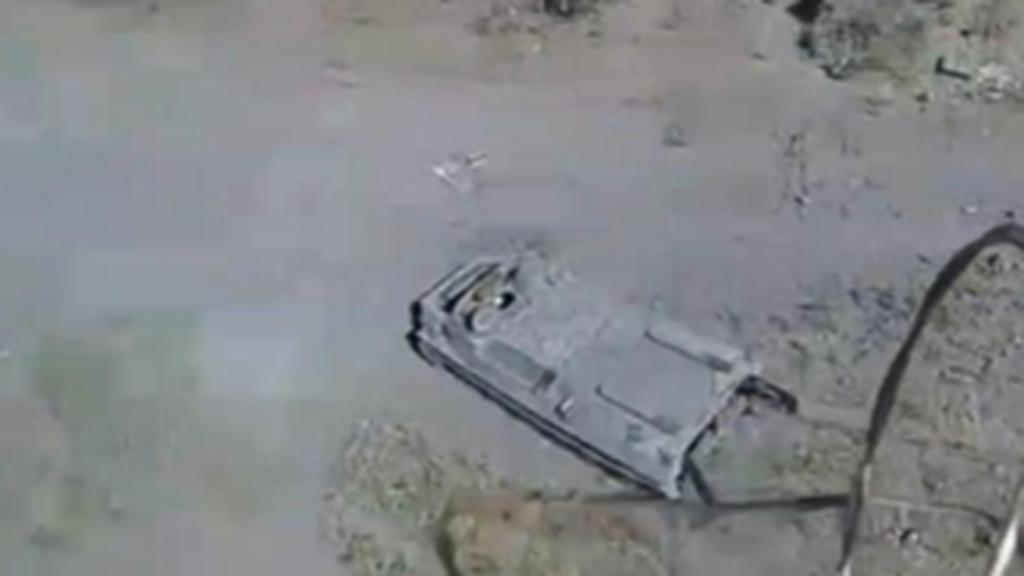APC-IFV: (398, 238, 800, 512)
